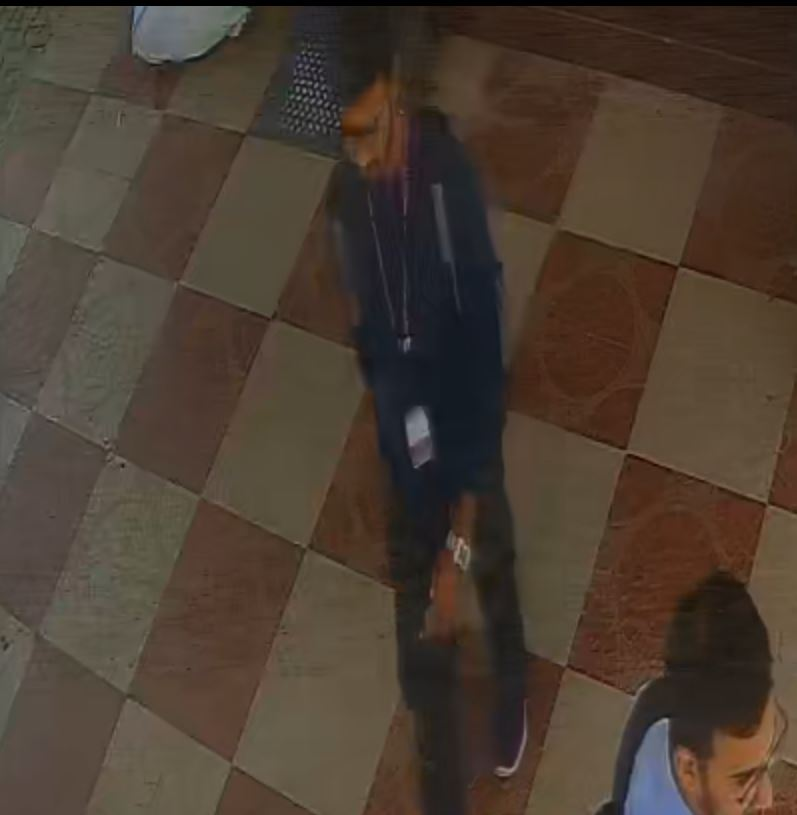intruder: (310, 18, 553, 800)
